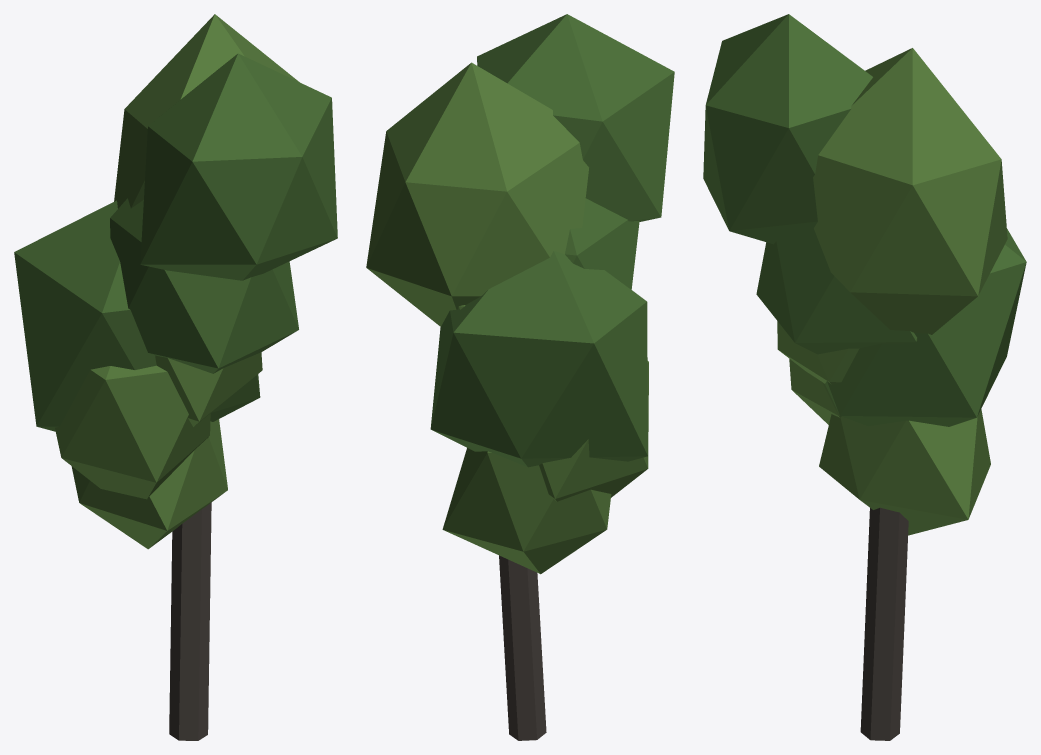
3 views of the same model, side by side, from view 1: azimuth 30°, elevation 25°; view 2: azimuth 150°, elevation 25°; view 3: azimuth 270°, elevation 25° (orthographic). The views are drawn at different scales.
Visible parts, largest first — view 1: al_2; view 2: al_2; view 3: al_2.
Part boxes in pixels (bbox=[...]): al_2: bbox=[14, 14, 337, 740]; al_2: bbox=[366, 14, 674, 740]; al_2: bbox=[703, 14, 1026, 740].
Size of the model in its own units: 3.2 by 8.1 by 3.29.
